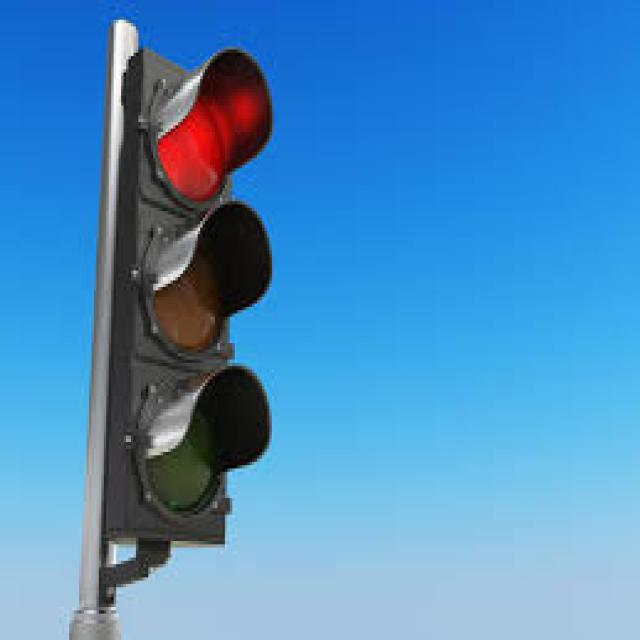red: (102, 17, 274, 569)
